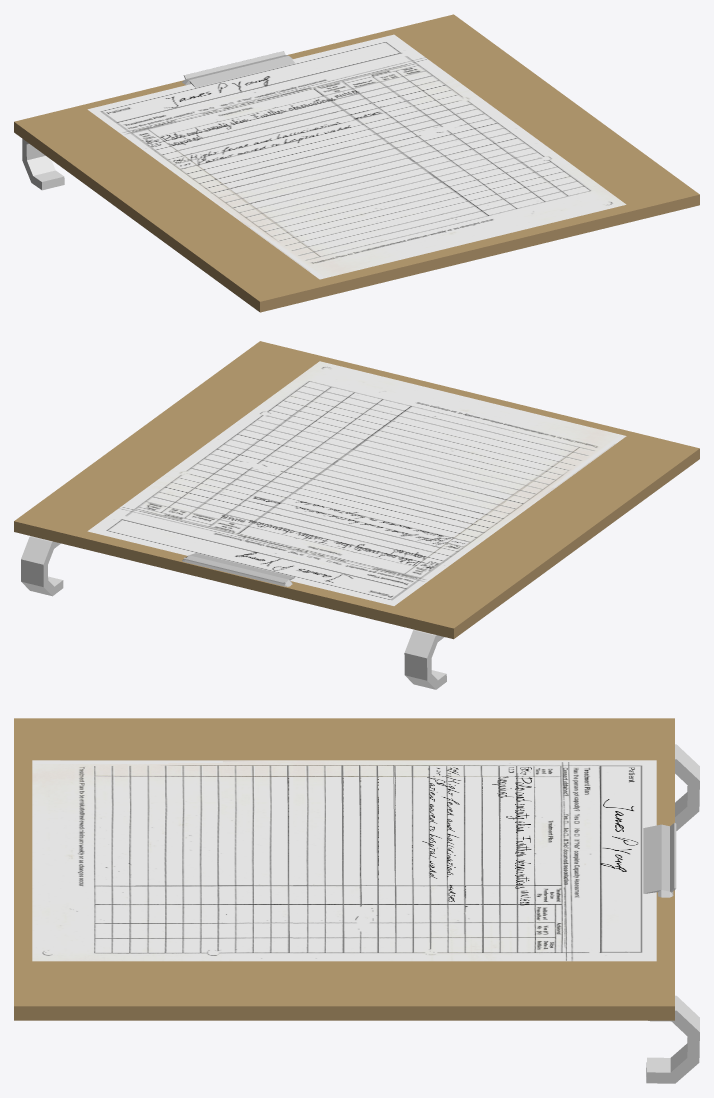
File: PatientBedRecord.fbx
3 views of the same model, one above another, from view 1: azimuth 30°, elevation 25°; view 2: azimuth 150°, elevation 25°; view 3: azimuth 270°, elevation 25° (orthographic). The views are drawn at different scales.
Parts seen in each view (by area): view 1: PaperPlane, PatientRecord, PaperHandler, hooks; view 2: PaperPlane, PatientRecord, hooks, PaperHandler; view 3: PaperPlane, PatientRecord, hooks, PaperHandler.
Boxes of the visible parts, x1=… form: PaperPlane: x1=87, y1=34, x2=626, y2=279; PatientRecord: x1=14, y1=14, x2=699, y2=312; PaperHandler: x1=182, y1=51, x2=295, y2=87; hooks: x1=22, y1=139, x2=64, y2=190; PaperPlane: x1=87, y1=361, x2=626, y2=605; PatientRecord: x1=14, y1=341, x2=699, y2=639; hooks: x1=21, y1=536, x2=446, y2=689; PaperHandler: x1=182, y1=553, x2=294, y2=586; PaperPlane: x1=32, y1=760, x2=656, y2=961; PatientRecord: x1=14, y1=718, x2=674, y2=1020; hooks: x1=646, y1=744, x2=699, y2=1083; PaperHandler: x1=643, y1=823, x2=676, y2=897.
Bounding box in the file's own units: 156 × 23.93 × 157.
